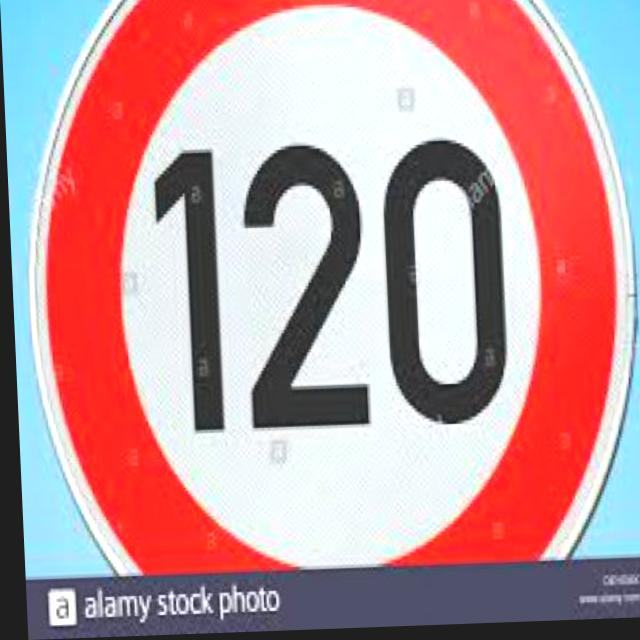limit120: (12, 0, 640, 596)
